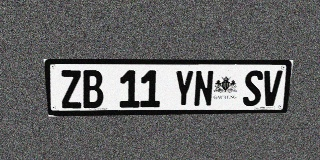1: (119, 70, 139, 108), (140, 70, 160, 107)
B: (81, 70, 104, 108)
N: (193, 70, 214, 107)
S: (242, 70, 264, 106)
V: (261, 70, 283, 106)
Y: (174, 70, 194, 107)
Z: (59, 70, 83, 109)
